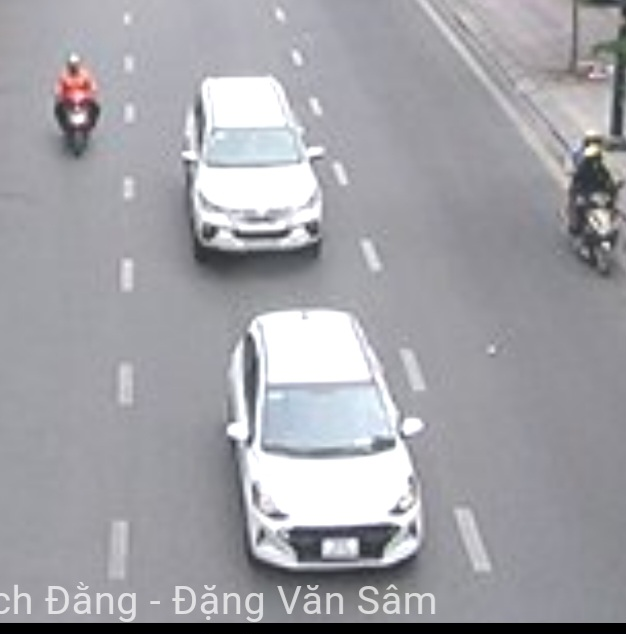car: (228, 306, 422, 572), (185, 76, 326, 259)
